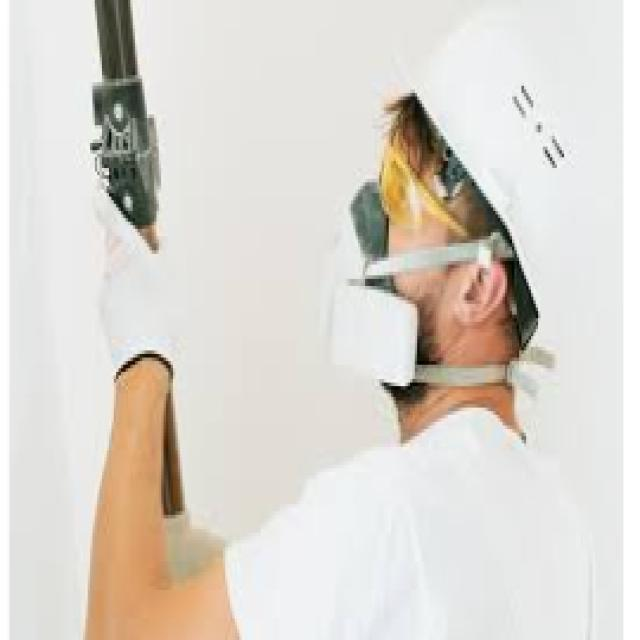glasses: (361, 140, 463, 253)
